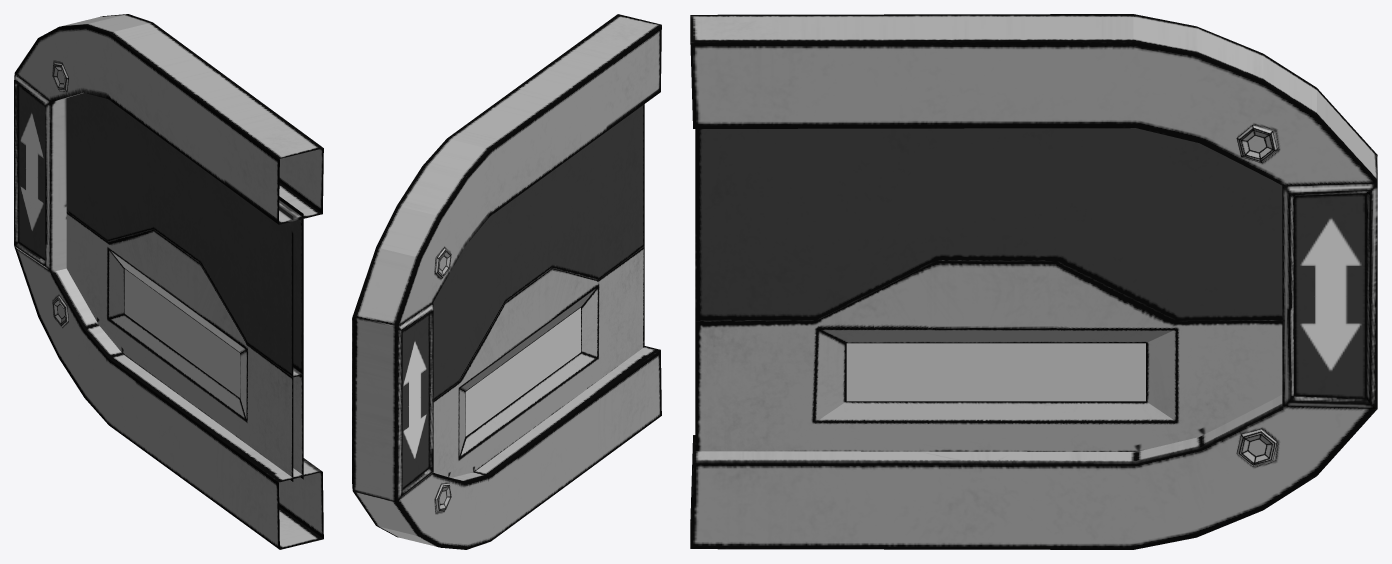
The model's file is SAS Door A.fbx.
3 views of the same model, side by side, from view 1: azimuth 30°, elevation 25°; view 2: azimuth 150°, elevation 25°; view 3: azimuth 270°, elevation 25° (orthographic). The views are drawn at different scales.
Visible parts, largest first — view 1: Cadre De porte, Porte Droite, Porte Gauche, Lumiere; view 2: Cadre De porte, Porte Gauche, Porte Droite, Lumiere; view 3: Cadre De porte, Porte Droite, Porte Gauche, Lumiere.
Part boxes in pixels (left/top/right/bottom): Cadre De porte: left=14, top=14, right=323, bottom=549; Porte Droite: left=66, top=93, right=303, bottom=377; Porte Gauche: left=66, top=212, right=303, bottom=481; Lumiere: left=52, top=62, right=68, bottom=326; Cadre De porte: left=352, top=14, right=661, bottom=549; Porte Gauche: left=433, top=246, right=644, bottom=477; Porte Droite: left=433, top=104, right=644, bottom=400; Lumiere: left=435, top=247, right=451, bottom=511; Cadre De porte: left=690, top=14, right=1377, bottom=549; Porte Droite: left=695, top=128, right=1282, bottom=320; Porte Gauche: left=695, top=261, right=1282, bottom=451; Lumiere: left=1236, top=125, right=1277, bottom=466.
Bounding box in the file's own units: 39.84 × 295 × 362.
